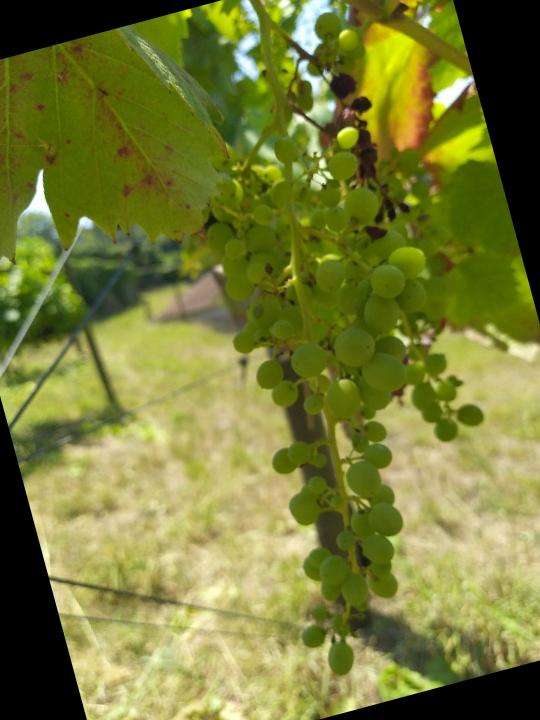grape: (172, 105, 530, 688), (303, 57, 424, 254)
